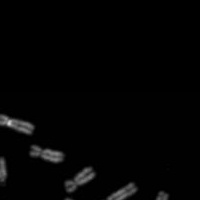chromosome: (65, 167, 95, 193), (95, 182, 136, 200), (0, 114, 34, 134), (29, 145, 63, 162), (147, 192, 168, 200), (0, 158, 6, 182), (61, 197, 92, 200)
